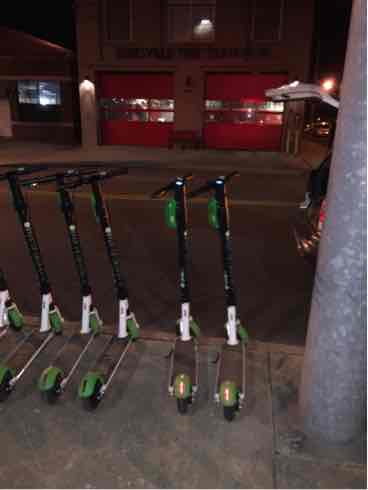too close: (103, 304, 154, 350), (160, 308, 209, 354), (25, 302, 74, 347), (214, 313, 263, 357), (67, 299, 112, 342)
